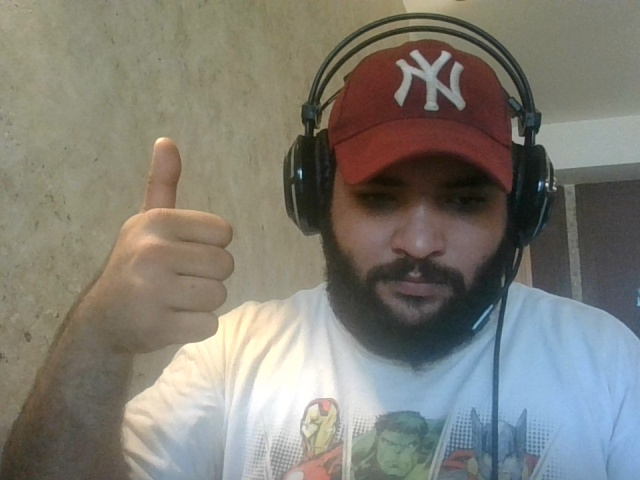yes: (93, 138, 241, 365)
